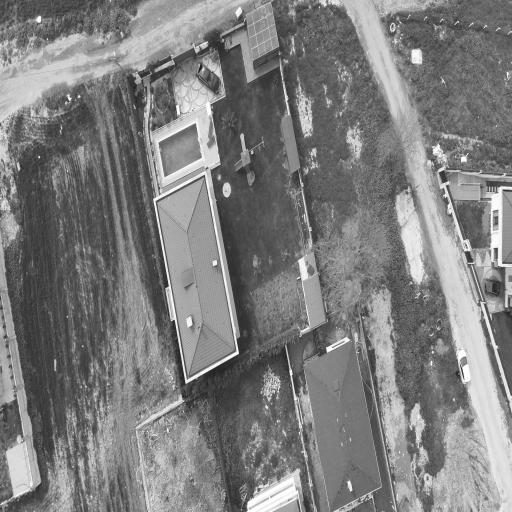car: (197, 62, 220, 92), (457, 348, 470, 383), (485, 278, 500, 295)
